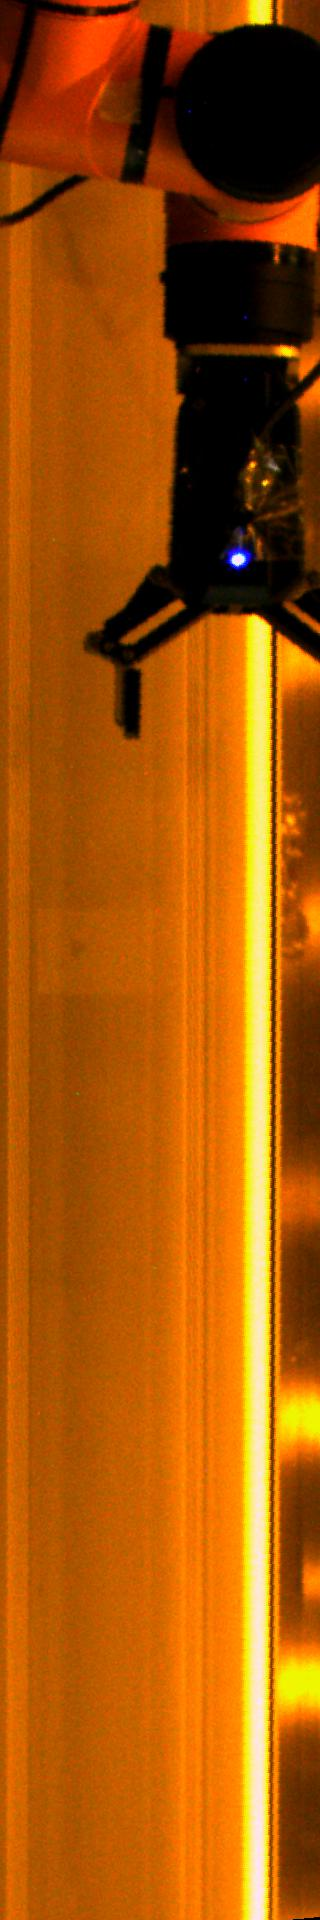keyPoint_1: (224, 545, 254, 576)
